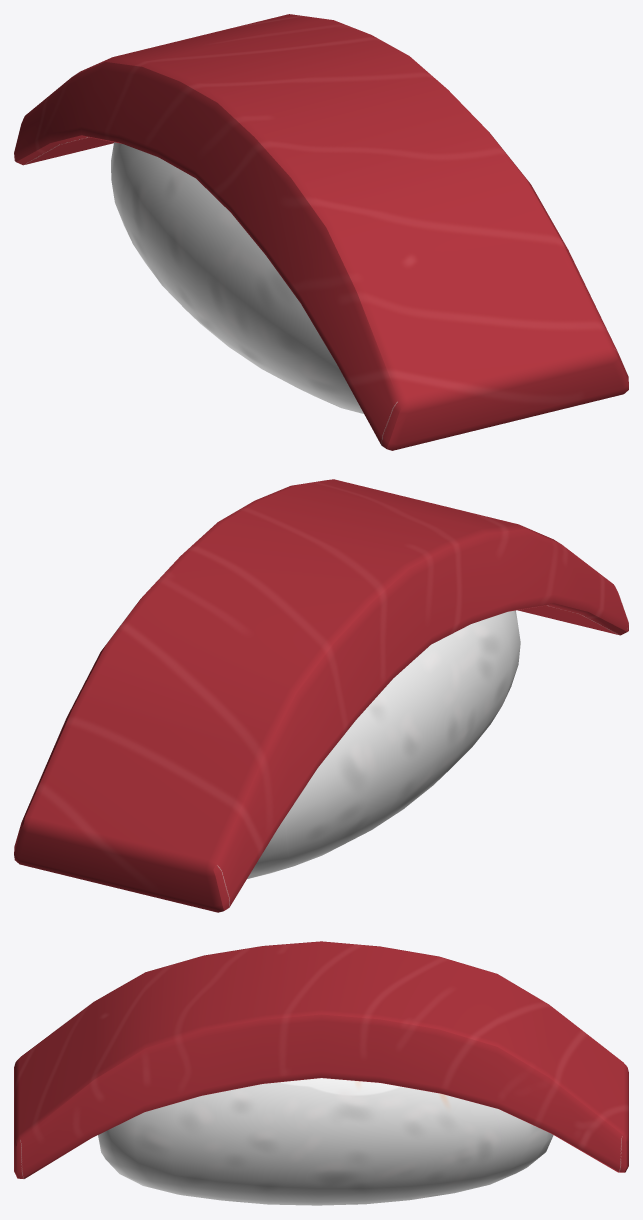
File: sushi_maguro.fbx
3 renders of one model, top to bottom at view 1: azimuth 30°, elevation 25°; view 2: azimuth 150°, elevation 25°; view 3: azimuth 270°, elevation 25°, orthographic. The views are drawn at different scales.
Parts seen in each view (by area): view 1: Neta_Maguro, Shari_Maguro; view 2: Neta_Maguro, Shari_Maguro; view 3: Neta_Maguro, Shari_Maguro.
Part boxes in pixels (x1=…): Neta_Maguro: x1=14, y1=14, x2=628, y2=450; Shari_Maguro: x1=111, y1=142, x2=363, y2=413; Neta_Maguro: x1=14, y1=479, x2=628, y2=912; Shari_Maguro: x1=247, y1=610, x2=520, y2=878; Neta_Maguro: x1=14, y1=941, x2=628, y2=1178; Shari_Maguro: x1=98, y1=1078, x2=553, y2=1205.
Bounding box in the file's own units: 0.8996 × 0.9398 × 2.42.
Materials: 1 (1 with a texture image).
